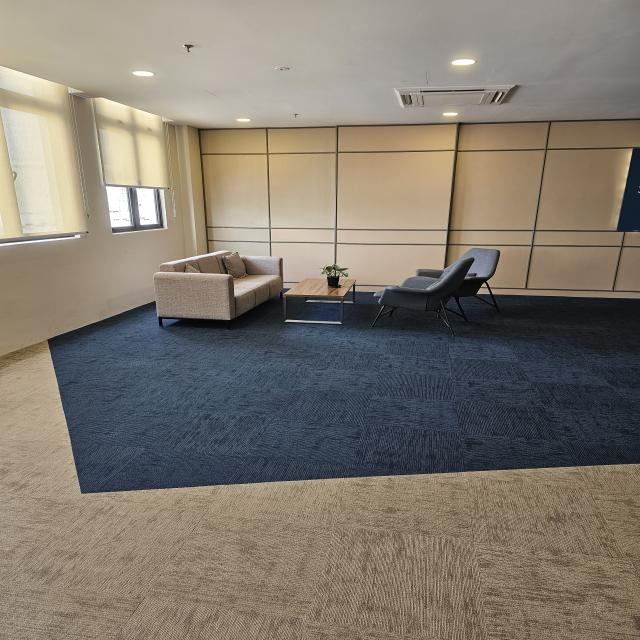footpath: (10, 344, 640, 638)
obstacle: (372, 243, 500, 329), (144, 248, 284, 322), (286, 266, 356, 323)
